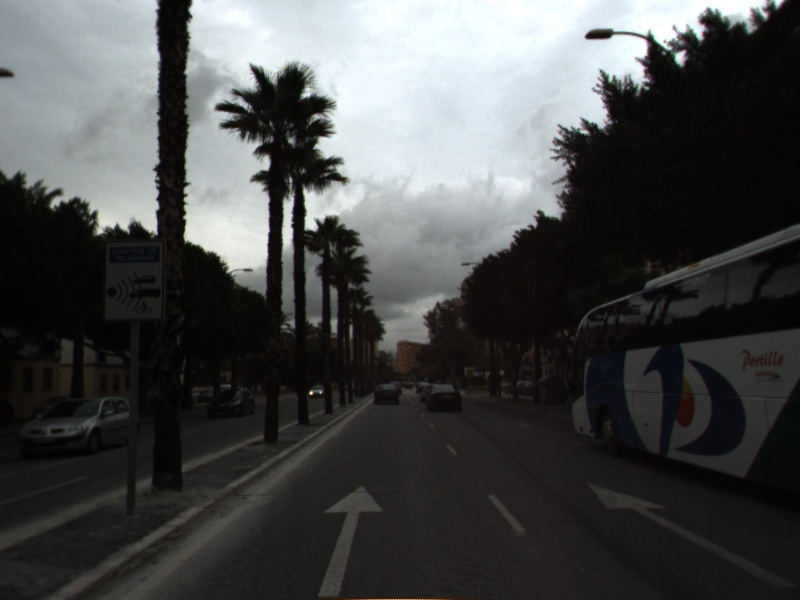STRAIGHT: (582, 478, 800, 592), (314, 482, 386, 599)
